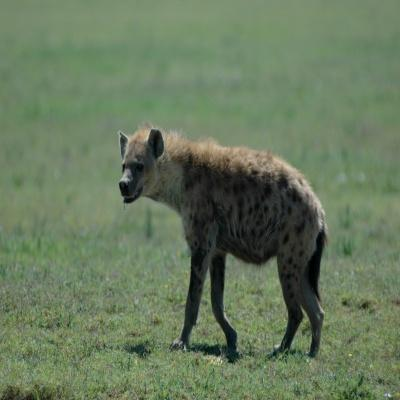hyenas: (100, 88, 370, 394)
